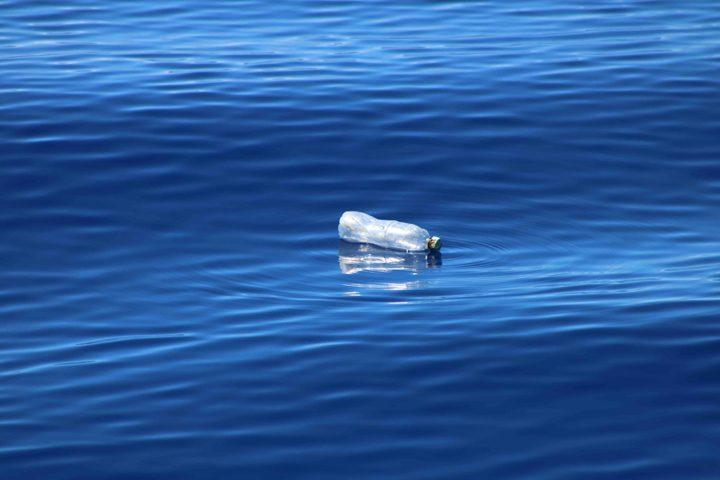Plastic: (338, 204, 445, 264)
